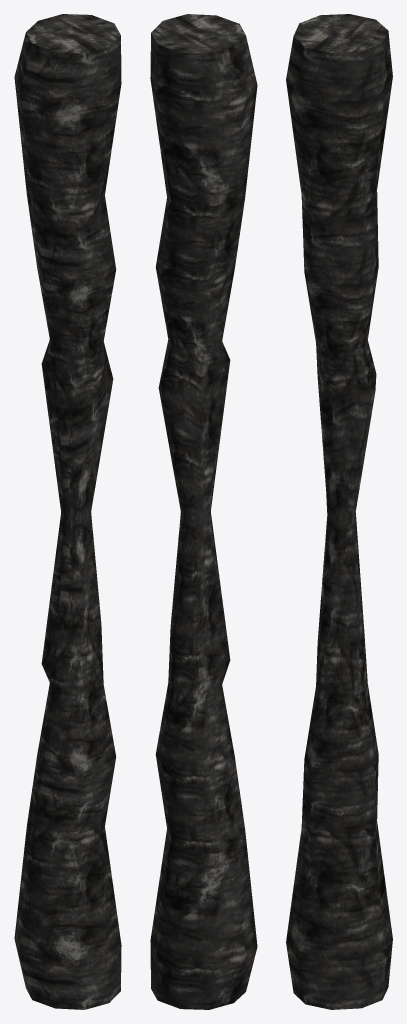
Rendered from Stalactite06.DAE.
3 renders of one model, left to right at view 1: azimuth 30°, elevation 25°; view 2: azimuth 210°, elevation 25°; view 3: azimuth 330°, elevation 25°, orthographic.
Visible parts, largest first — view 1: Cylinder001; view 2: Cylinder001; view 3: Cylinder001.
Boxes of the visible parts, x1,y1,x2,y2 form: Cylinder001: (14, 14, 121, 1009); Cylinder001: (150, 14, 257, 1009); Cylinder001: (286, 14, 392, 1009).
Size of the model in its own units: 0.6899 by 0.6667 by 6.77.
